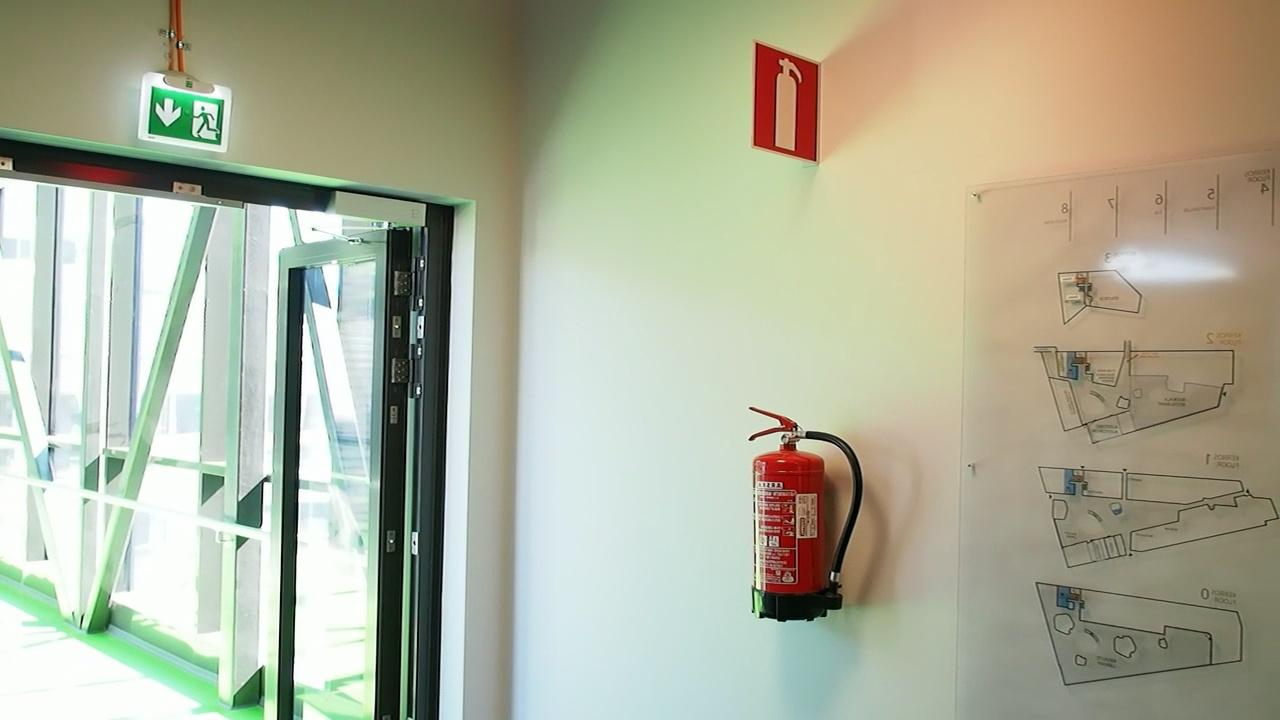exit: (143, 85, 231, 149)
fireextinguisher: (740, 404, 856, 626), (751, 43, 824, 152)
